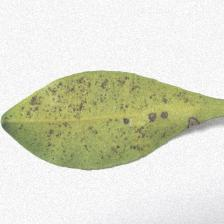canker: (27, 78, 162, 154)
